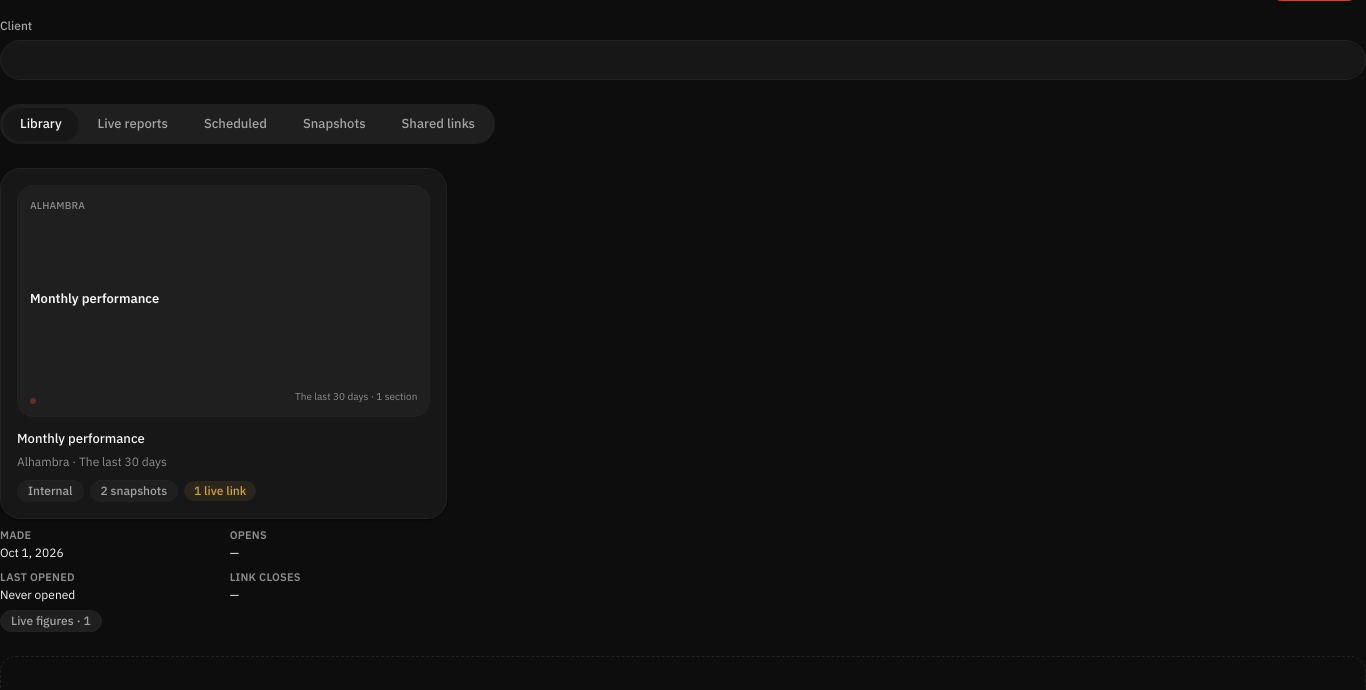
Test case: reading a report › carries the period, the source and when it was rendered
Click the button "Monthly performance" at {"x": 224, "y": 343}, box x1=0 y1=168 x2=447 y2=519
(page scrolled)
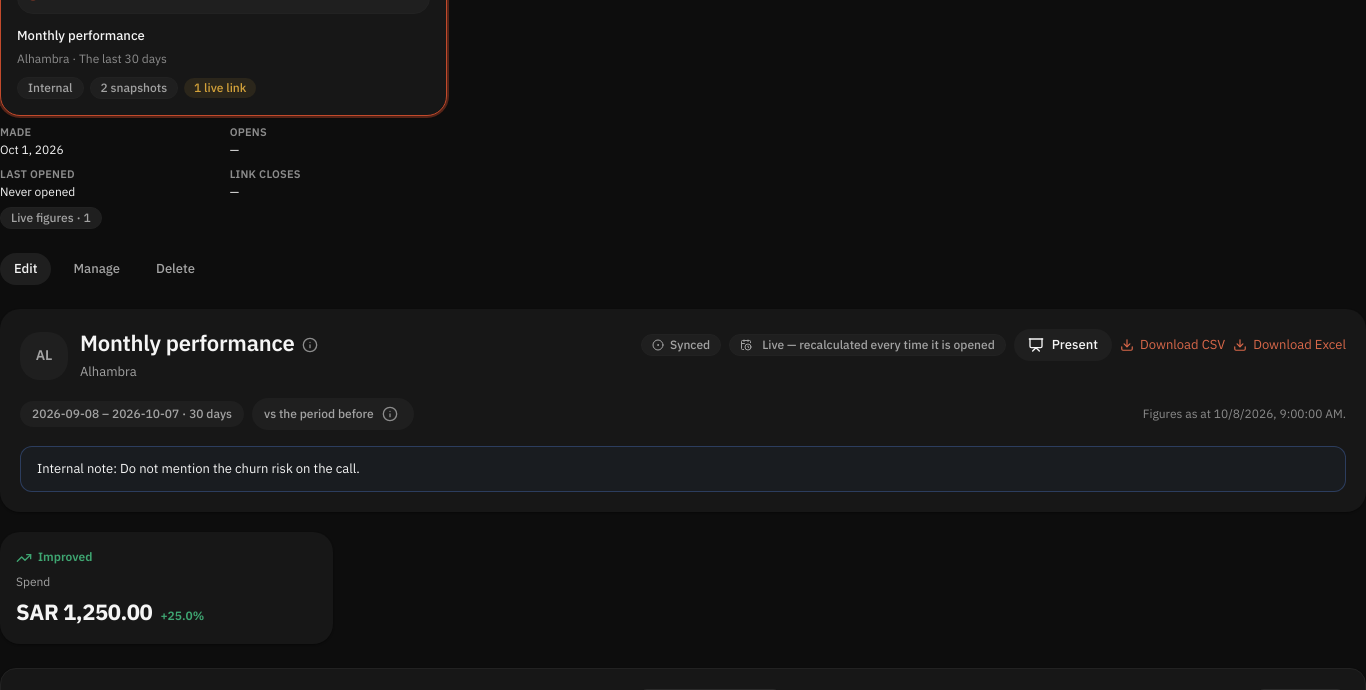
Check: the text "Figures as at 10/8/2026, 9:00:00 AM." is shown, box x1=1143 y1=405 x2=1346 y2=424
Check: the text "2026-09-08 – 2026-10-07" is shown, box x1=32 y1=405 x2=179 y2=423
Check: the text "Live — recalculated every time it is opened" is shown, box x1=729 y1=334 x2=1006 y2=356
